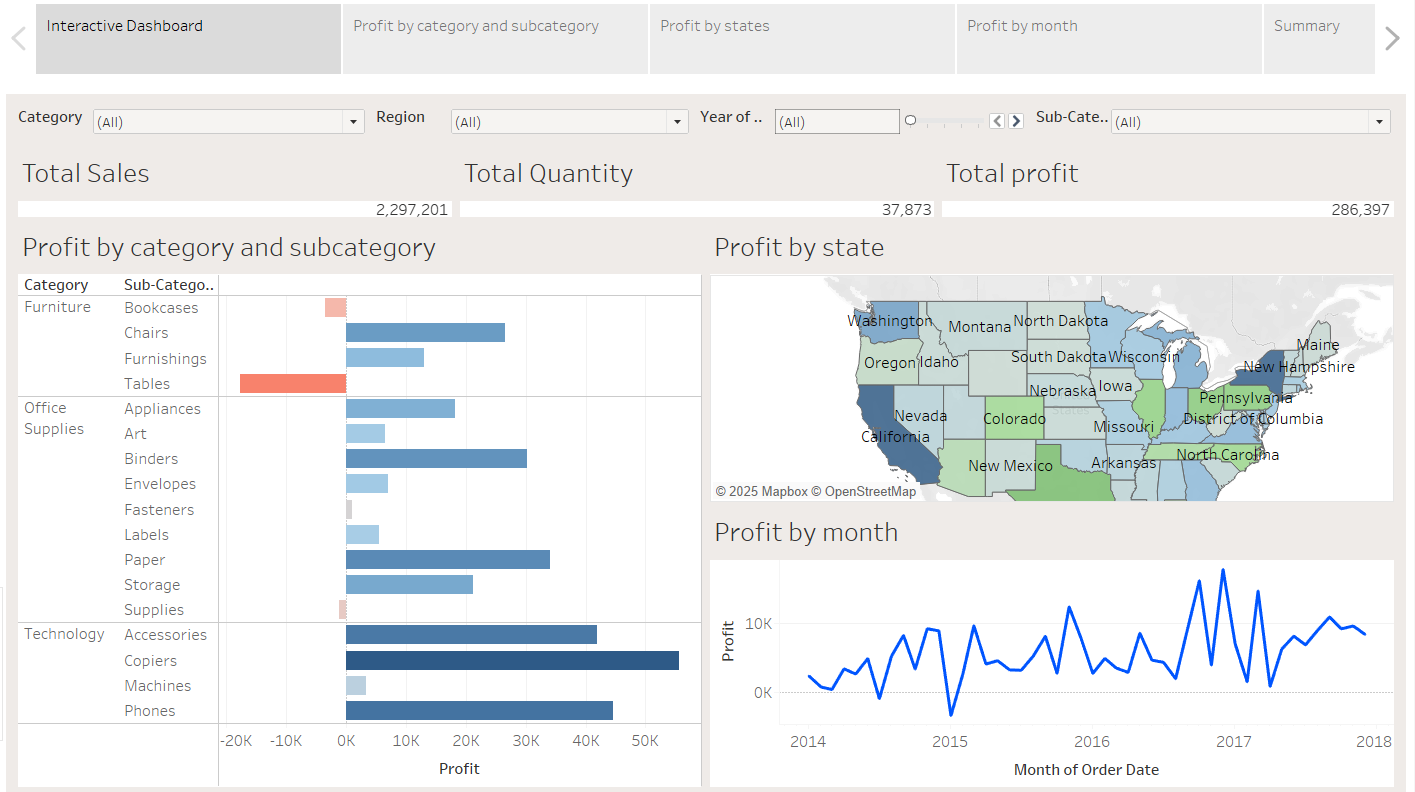

The page's visual inventory and layout, read from the dashboard file:
{"tool":"tableau","page":{"name":"Dashboard 1","canvas":[1000,1000],"units":"permille","ordinal":0},"visuals":[{"type":"filter","title":"Profit by category and subcategory","param":"[federated.06hwrfl0yq4emn15emw4p1hreslt].[none:Category:nk]","box":[4.8,10,256,64.7]},{"type":"filter","title":"Profit by state","param":"[federated.06hwrfl0yq4emn15emw4p1hreslt].[none:Region:nk]","box":[260.9,10,232,64.7]},{"type":"filter","title":"Profit by state","param":"[federated.06hwrfl0yq4emn15emw4p1hreslt].[yr:Order Date:ok]","box":[492.9,10,240.5,64.7]},{"type":"filter","title":"Profit by category and subcategory","param":"[federated.06hwrfl0yq4emn15emw4p1hreslt].[none:Sub-Category:nk]","box":[733.4,10,261.8,64.7]},{"type":"worksheet","title":"Total Sales","mark":"Automatic","box":[4.8,74.7,316,105.2]},{"type":"worksheet","title":"Total Quantity","mark":"Automatic","box":[320.9,74.7,345.4,105.2]},{"type":"worksheet","title":"Total profit","mark":"Automatic","box":[666.2,74.7,328.9,105.2]},{"type":"worksheet","title":"Profit by category and subcategory","mark":"Automatic","rows":["Category","Sub-Category"],"cols":["Profit"],"box":[4.8,179.9,495.2,810.1]},{"type":"worksheet","title":"Profit by state","mark":"Automatic","box":[500,179.9,495.2,405.1]},{"type":"worksheet","title":"Profit by month","mark":"Automatic","rows":["Profit"],"cols":["Order Date"],"box":[500,585,495.2,405]}]}

Visuals, with their boxes on the dashboard's canvas, which has no fixed pixel size, in thousandths of its width and height (x1, y1, x2, y2). These are canvas units, not pixel positions in the 1415x792 screenshot, which may show the page scaled, cropped or inside an application window:
"Profit by category and subcategory" filter: 5 10 261 75
"Profit by state" filter: 261 10 493 75
"Profit by state" filter: 493 10 733 75
"Profit by category and subcategory" filter: 733 10 995 75
"Total Sales" worksheet: 5 75 321 180
"Total Quantity" worksheet: 321 75 666 180
"Total profit" worksheet: 666 75 995 180
"Profit by category and subcategory" worksheet: 5 180 500 990
"Profit by state" worksheet: 500 180 995 585
"Profit by month" worksheet: 500 585 995 990
